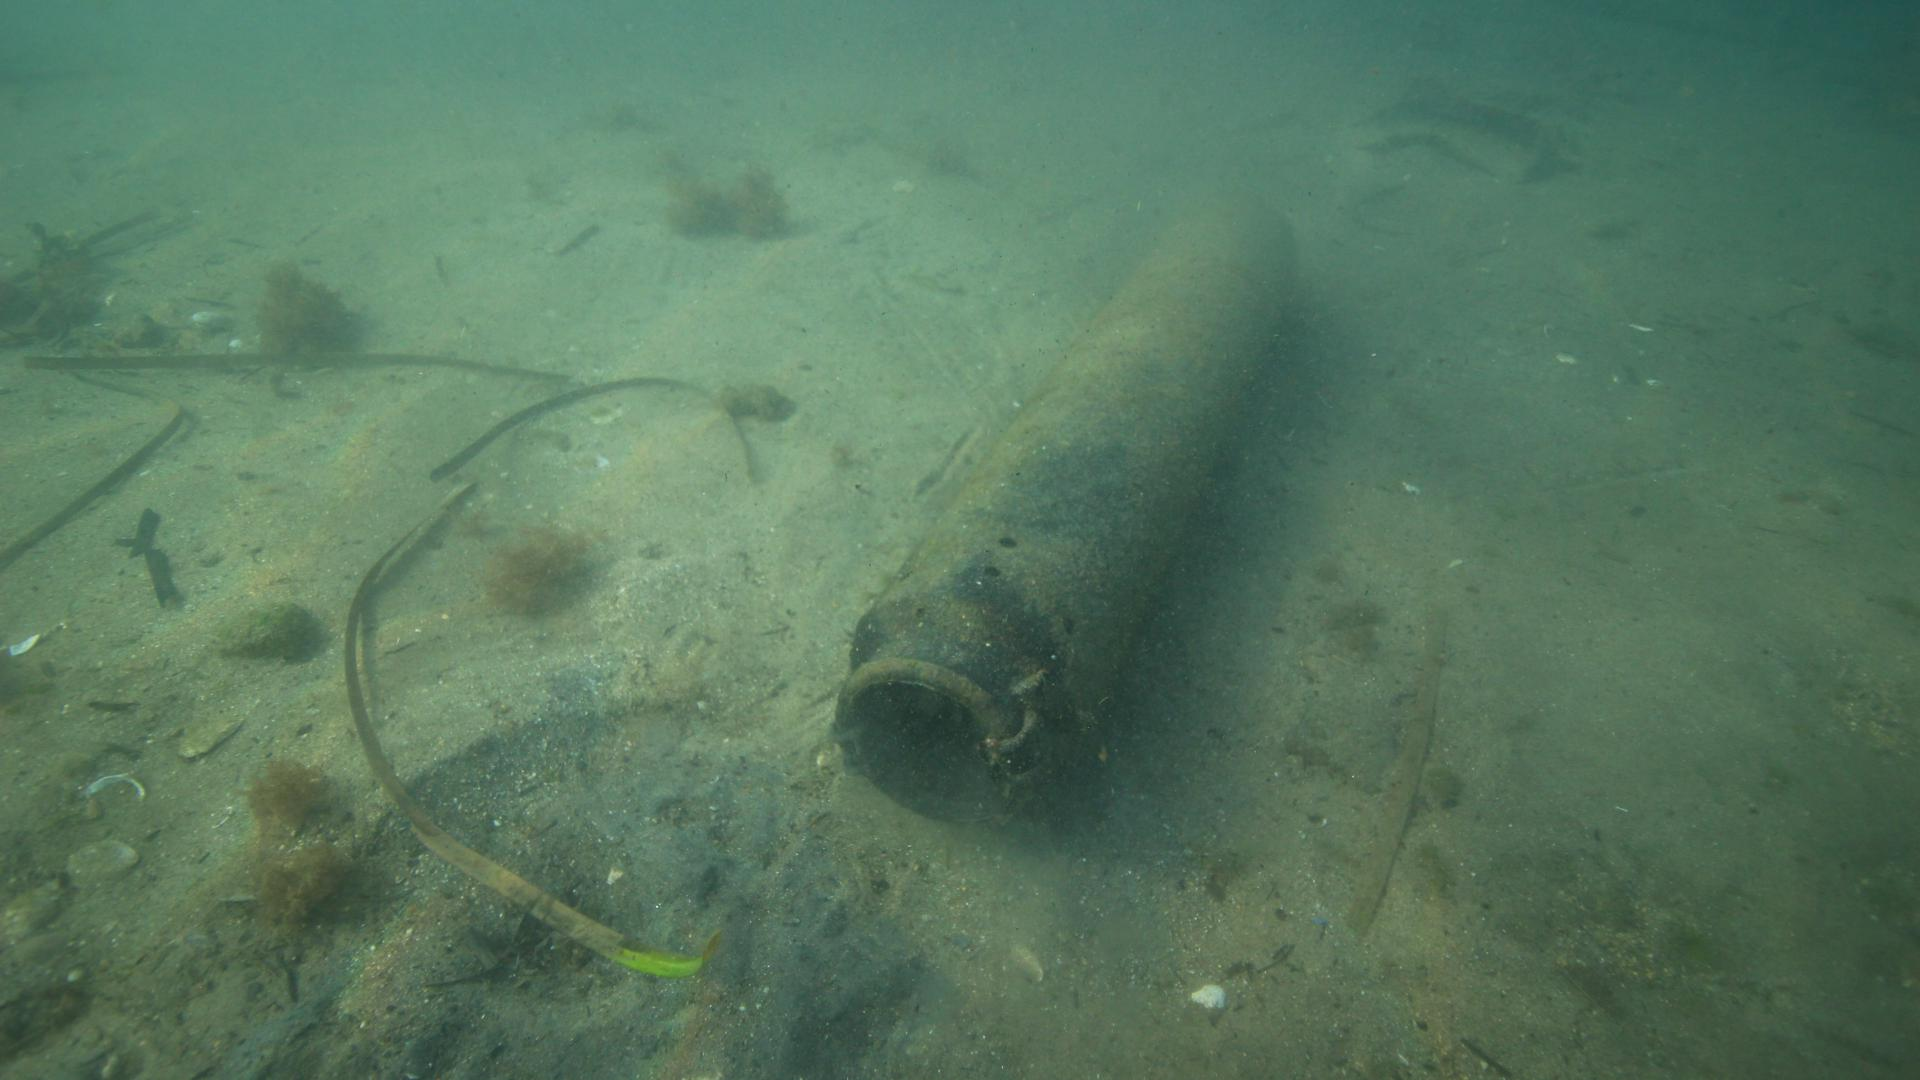eel fish trap: (829, 187, 1298, 829)
